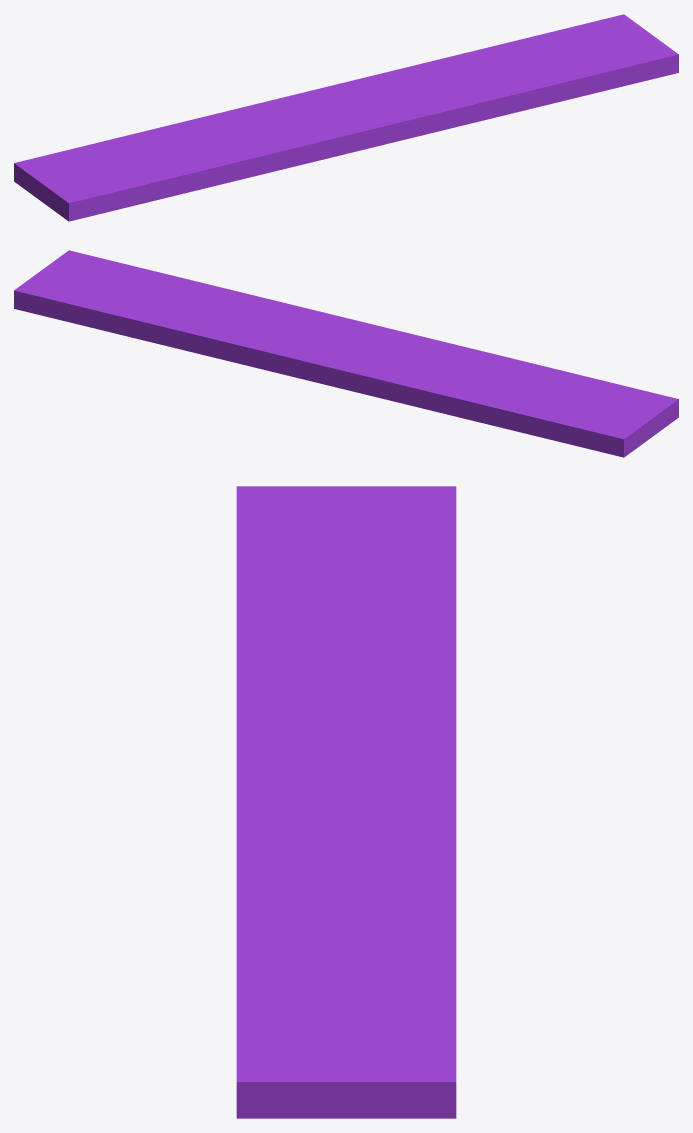
The model's file is StairsStep_120_chunks.fbx.
3 views of the same model, one above another, from view 1: azimuth 30°, elevation 25°; view 2: azimuth 150°, elevation 25°; view 3: azimuth 270°, elevation 25° (orthographic). The views are drawn at different scales.
Visible parts, largest first — view 1: StairsStep_120_5, StairsStep_120_6, StairsStep_120_9, StairsStep_120_3, StairsStep_120_8, StairsStep_120_1, StairsStep_120_4; view 2: StairsStep_120_9, StairsStep_120_5, StairsStep_120_1, StairsStep_120_8, StairsStep_120_6, StairsStep_120_3, StairsStep_120_4, StairsStep_120_2; view 3: StairsStep_120_5, StairsStep_120_9, StairsStep_120_8, StairsStep_120_6, StairsStep_120_3, StairsStep_120_1, StairsStep_120_4.
Boxes of the visible parts, x1,y1,x2,y2 form: StairsStep_120_5: [476, 14, 678, 112]; StairsStep_120_6: [52, 139, 293, 221]; StairsStep_120_9: [14, 113, 232, 208]; StairsStep_120_3: [349, 81, 515, 148]; StairsStep_120_8: [218, 99, 360, 166]; StairsStep_120_1: [276, 49, 480, 106]; StairsStep_120_4: [371, 46, 491, 97]; StairsStep_120_9: [419, 371, 666, 457]; StairsStep_120_5: [14, 250, 237, 331]; StairsStep_120_1: [150, 325, 374, 396]; StairsStep_120_8: [342, 328, 465, 408]; StairsStep_120_6: [455, 344, 678, 429]; StairsStep_120_3: [226, 291, 386, 344]; StairsStep_120_4: [146, 311, 310, 341]; StairsStep_120_2: [108, 323, 154, 341]; StairsStep_120_5: [236, 906, 456, 1118]; StairsStep_120_9: [287, 486, 456, 685]; StairsStep_120_8: [236, 670, 456, 787]; StairsStep_120_6: [236, 486, 334, 704]; StairsStep_120_3: [236, 771, 367, 916]; StairsStep_120_1: [351, 741, 456, 941]; StairsStep_120_4: [329, 813, 456, 952].
Bounding box in the file's own units: 1009 × 28.98 × 157.
